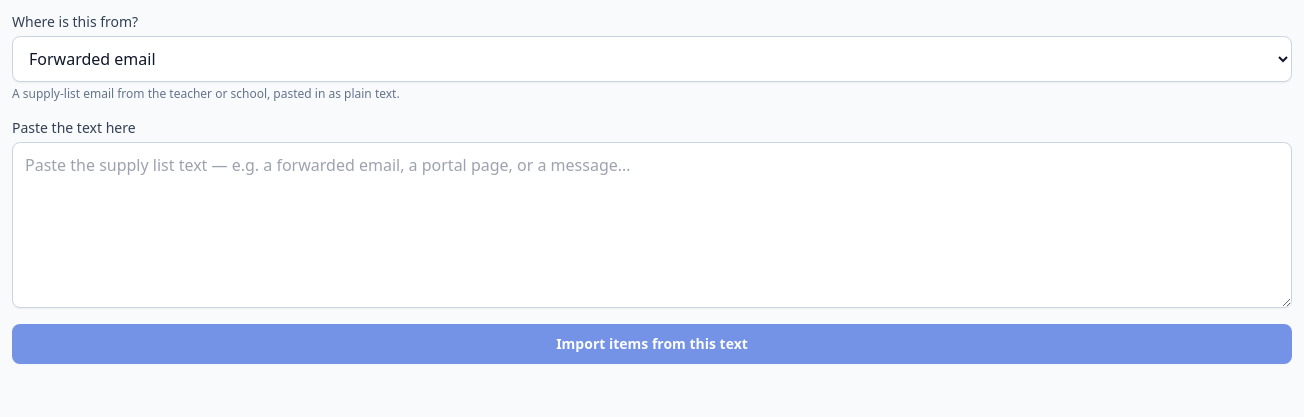
ImportRequirementsForm › shows a generic error message on a non-409 failure and does not call onImported
Type "some text" into the text box labelled "Paste the text here" at x=652, y=225, box [12,142,1292,308]
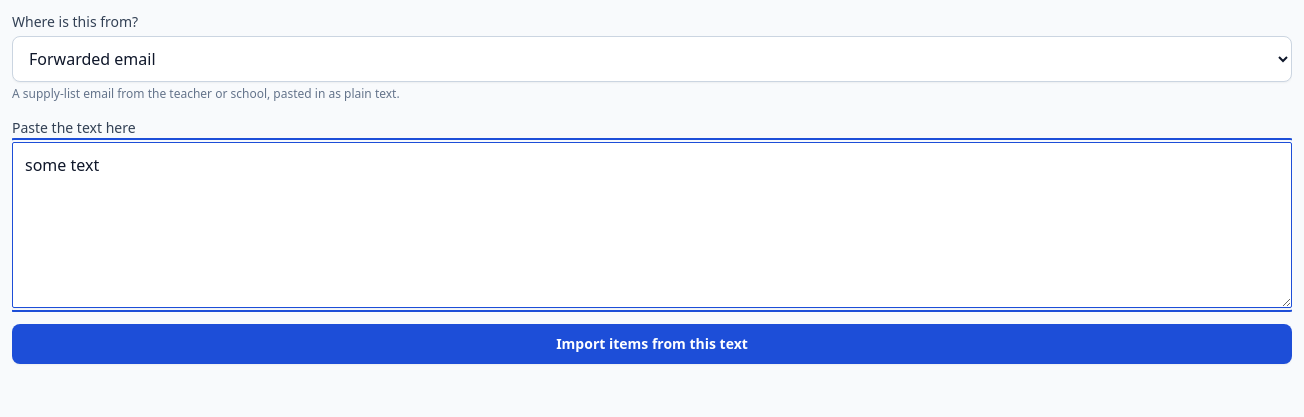
Click the button "Import items from this text" at x=652, y=344, box [12,324,1292,364]
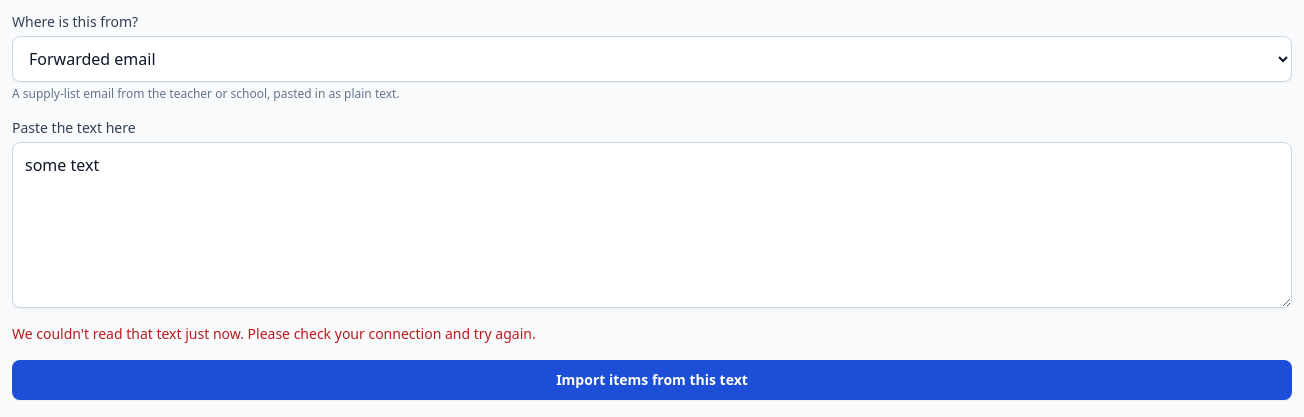
Expected: the text "couldn't read that text just now" is shown, [12,324,536,343]
